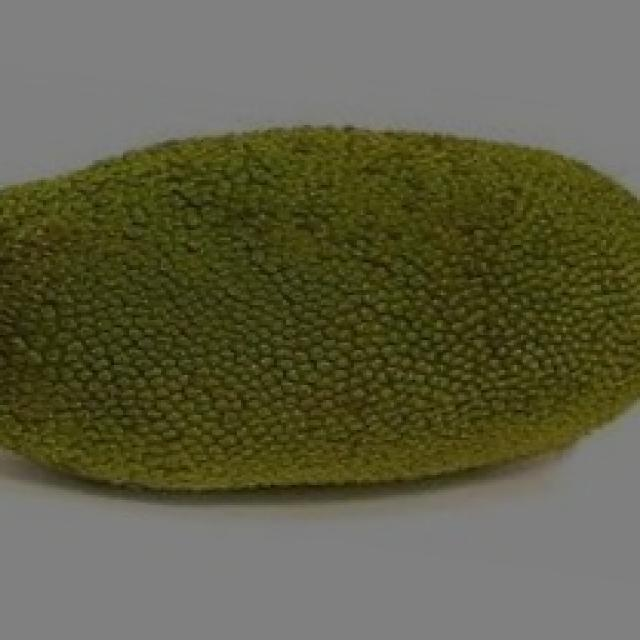Fruit: (0, 118, 397, 530), (277, 110, 640, 515)
